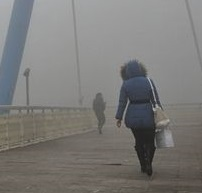person: (115, 59, 175, 177), (91, 91, 106, 134)
